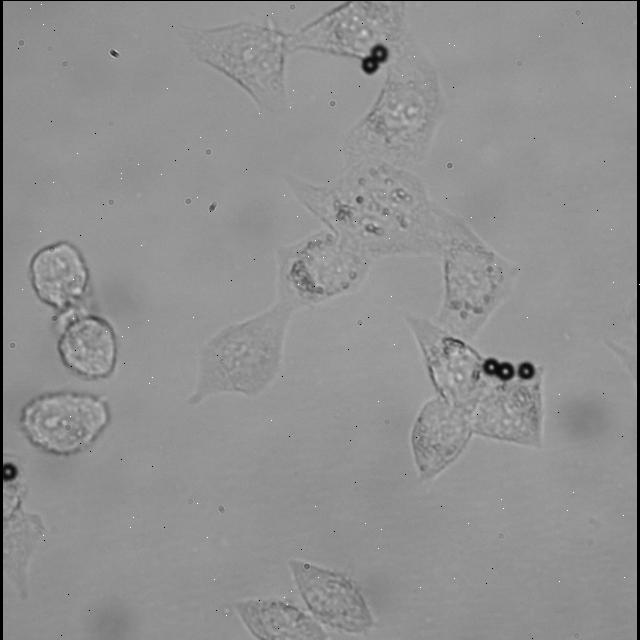microbeads: (496, 356, 514, 382), (480, 354, 500, 376), (3, 461, 21, 484), (359, 56, 378, 76), (518, 359, 534, 381), (370, 46, 390, 62)
